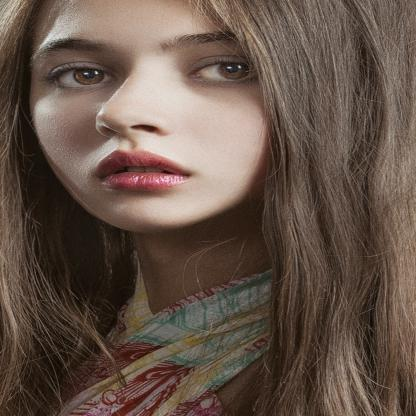Eye: (40, 60, 122, 95), (180, 56, 258, 89)
Mouth: (88, 147, 197, 191)
Nose: (94, 77, 172, 137)
